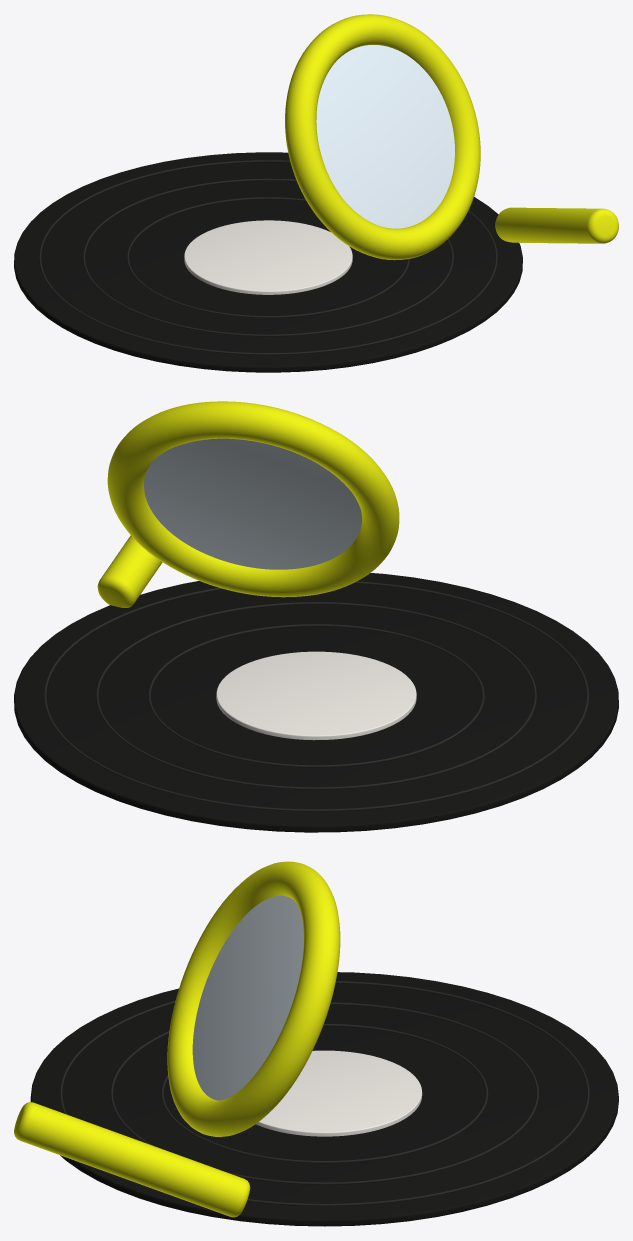
Rendered from demande.glb.
The picture shows the model from 3 angles, top to bottom: view 1: azimuth 30°, elevation 25°; view 2: azimuth 150°, elevation 25°; view 3: azimuth 270°, elevation 25°; orthographic projection. The views are drawn at different scales.
Parts seen in each view (by area): view 1: cyl, cyl.002, tor.003, cyl.001, cyl.003, tor.002, tor.001, tor; view 2: cyl, tor.003, cyl.002, cyl.001, tor.002, tor.001, cyl.003, tor; view 3: cyl, tor.003, cyl.002, cyl.001, cyl.003, tor.002, tor.001, tor.
Part boxes in pixels (x1,y1,x2,y2): cyl: (14, 152, 522, 372); cyl.002: (316, 45, 454, 228); tor.003: (285, 14, 480, 260); cyl.001: (184, 220, 352, 294); cyl.003: (495, 207, 618, 243); tor.002: (39, 160, 497, 355); tor.001: (83, 178, 453, 336); tor: (127, 197, 409, 317); cyl: (14, 573, 618, 832); tor.003: (107, 401, 399, 597); cyl.002: (144, 438, 361, 569); cyl.001: (216, 651, 416, 740); tor.002: (44, 581, 588, 811); tor.001: (96, 602, 536, 789); cyl.003: (97, 535, 162, 607); tor: (148, 624, 484, 767); cyl: (30, 972, 618, 1226); tor.003: (167, 861, 340, 1136); cyl.002: (192, 895, 303, 1100); cyl.001: (255, 1050, 422, 1136); cyl.003: (14, 1102, 250, 1217); tor.002: (60, 981, 589, 1206); tor.001: (110, 1002, 538, 1184); tor: (161, 1024, 488, 1163).
Size of the model in its own units: 2.9 by 1.46 by 2.98.
